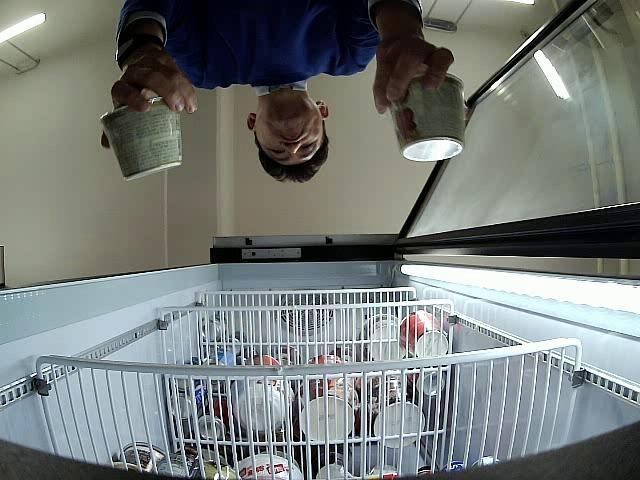04_chapagetti_S: (100, 98, 184, 182), (388, 72, 464, 162)
